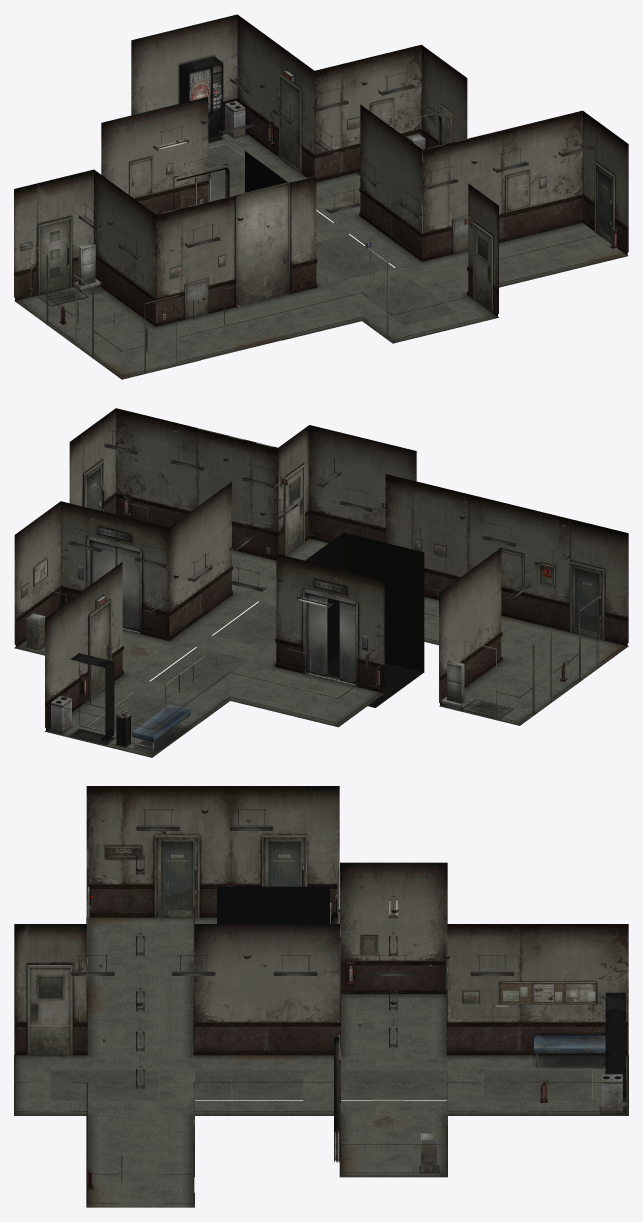
Rendered from clinic_bunker.glb.
3 views of the same model, one above another, from view 1: azimuth 30°, elevation 25°; view 2: azimuth 150°, elevation 25°; view 3: azimuth 270°, elevation 25° (orthographic). The views are drawn at different scales.
Parts seen in each view (by area): view 1: FrontSide_6, FrontSide_2, FrontSide_3, FrontSide_5, FrontSide_4, FrontSide_1, FrontSide_7, FrontSide_8, FrontSide_0; view 2: FrontSide_6, FrontSide_2, FrontSide_3, FrontSide_1, FrontSide_7, FrontSide_5, FrontSide_4, FrontSide_8, FrontSide_0; view 3: FrontSide_2, FrontSide_6, FrontSide_3, FrontSide_7, FrontSide_5, FrontSide_1, FrontSide_4, FrontSide_8, FrontSide_0.
Part boxes in pixels (x1,y1,x2,y2): FrontSide_6: (14,44,628,375); FrontSide_2: (14,130,628,379); FrontSide_3: (94,14,467,298); FrontSide_5: (20,74,618,373); FrontSide_4: (14,100,628,313); FrontSide_1: (78,56,609,303); FrontSide_7: (14,175,628,319); FrontSide_8: (20,55,627,378); FrontSide_0: (185,101,468,319); FrontSide_6: (15,408,628,753); FrontSide_2: (14,538,628,757); FrontSide_3: (14,425,501,753); FrontSide_1: (68,430,595,743); FrontSide_7: (61,497,555,689); FrontSide_5: (21,430,620,719); FrontSide_4: (33,408,628,702); FrontSide_8: (21,459,627,753); FrontSide_0: (26,613,71,733); FrontSide_2: (14,917,628,1207); FrontSide_6: (14,786,628,1203); FrontSide_3: (194,862,605,1067); FrontSide_7: (87,786,337,917); FrontSide_5: (27,819,548,1200); FrontSide_1: (71,809,625,1162); FrontSide_4: (14,786,595,1100); FrontSide_8: (26,845,626,1207); FrontSide_0: (193,1074,622,1172).
Size of what is drawn, in the model's own units: 19.73 by 4.94 by 17.63.
Materials: 9 (9 with a texture image).
